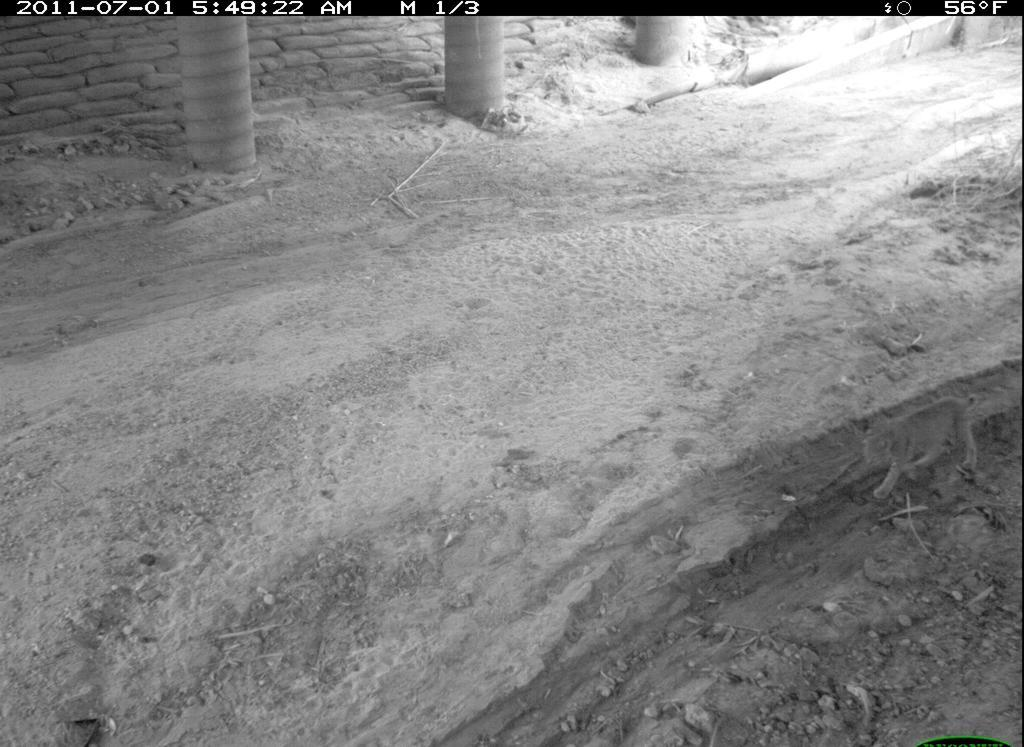bobcat: (850, 392, 990, 506)
